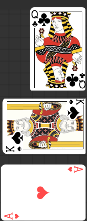AH: (3, 212, 20, 221)
